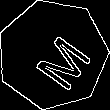M_NW: (19, 21, 87, 88)
